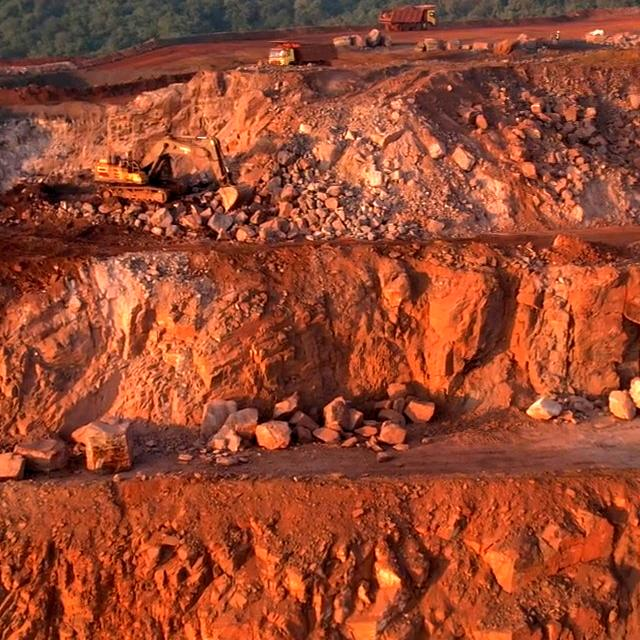Dumper truck: (271, 42, 340, 70), (386, 4, 440, 28)
Excavator: (95, 153, 186, 207)
person: (555, 31, 562, 42)
